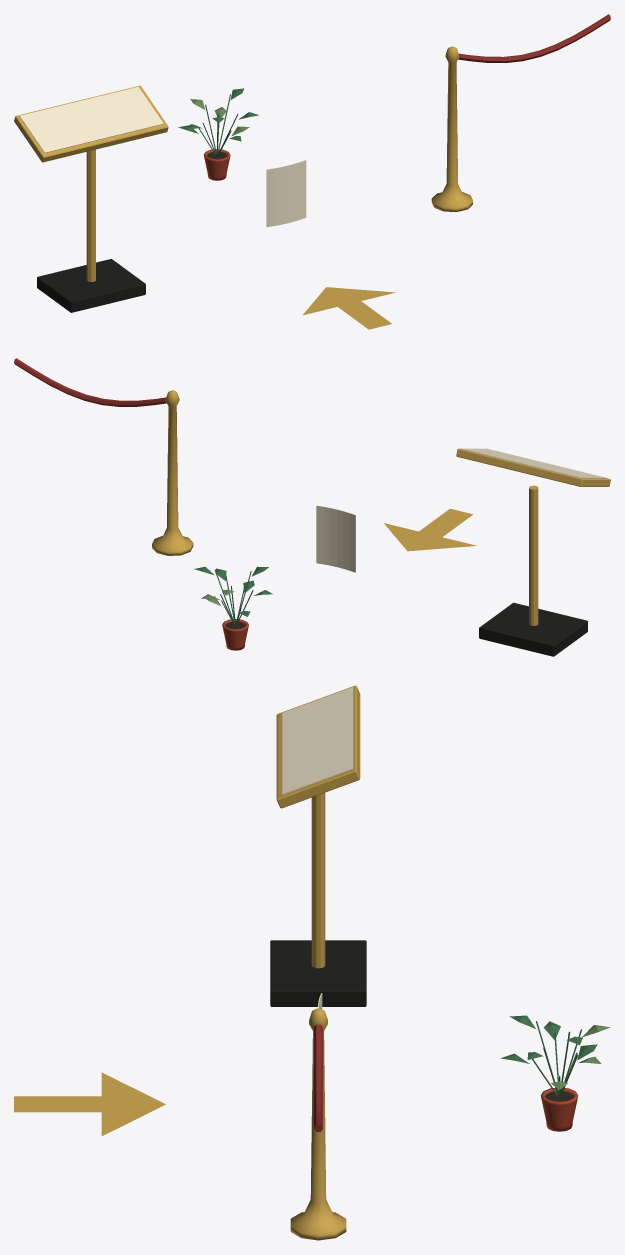
Rendered from S6_common.glb.
The picture shows the model from 3 angles, top to bottom: view 1: azimuth 30°, elevation 25°; view 2: azimuth 150°, elevation 25°; view 3: azimuth 270°, elevation 25°; orthographic projection. The views are drawn at different scales.
Visible parts, largest first — view 1: S6_2_static, SIGN_label, SIGN_card, Common_stanchion, Common_floor_arrow, Common_small_plant, Common_rope; view 2: S6_2_static, SIGN_card, Common_stanchion, Common_floor_arrow, Common_small_plant, Common_rope, SIGN_label; view 3: S6_2_static, SIGN_label, Common_floor_arrow, Common_stanchion, Common_small_plant, Common_rope.
Part boxes in pixels (x1,y1,x2,y2): S6_2_static: (14, 85, 168, 312); SIGN_label: (19, 87, 163, 152); SIGN_card: (266, 160, 306, 227); Common_stanchion: (431, 46, 472, 211); Common_floor_arrow: (303, 287, 395, 329); Common_small_plant: (178, 88, 258, 180); Common_rope: (458, 14, 610, 62); S6_2_static: (456, 448, 610, 656); SIGN_card: (316, 505, 355, 572); Common_stanchion: (152, 390, 193, 555); Common_floor_arrow: (384, 508, 476, 551); Common_small_plant: (194, 566, 272, 650); Common_rope: (14, 358, 166, 406); SIGN_label: (462, 448, 605, 478); S6_2_static: (270, 685, 366, 1006); SIGN_label: (282, 687, 353, 794); Common_floor_arrow: (14, 1072, 165, 1135); Common_stanchion: (290, 1008, 346, 1240); Common_small_plant: (501, 1015, 610, 1131); Common_rope: (314, 1024, 322, 1131).
Size of the model in its own units: 3.7 by 1.1 by 2.35.
